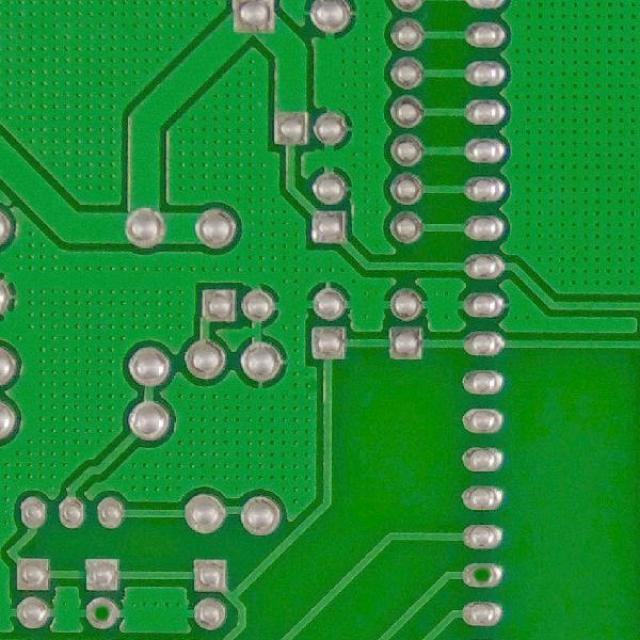Missing_Hole: (458, 560, 506, 591), (82, 594, 121, 631)
